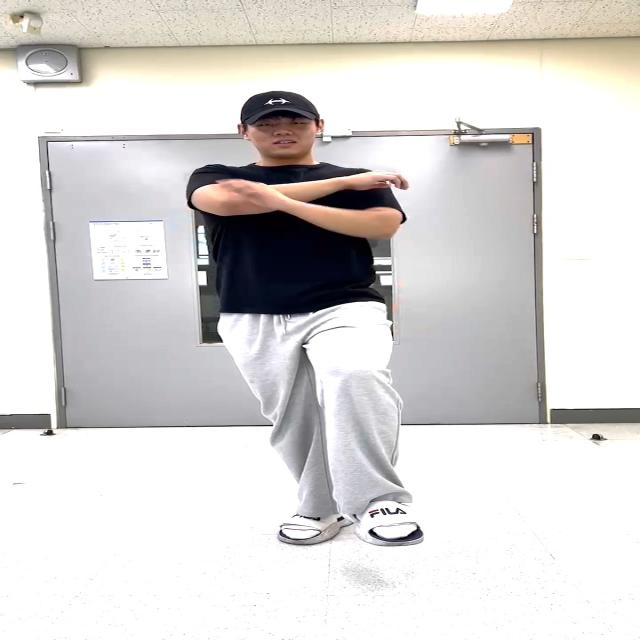leg: (296, 315, 478, 551)
